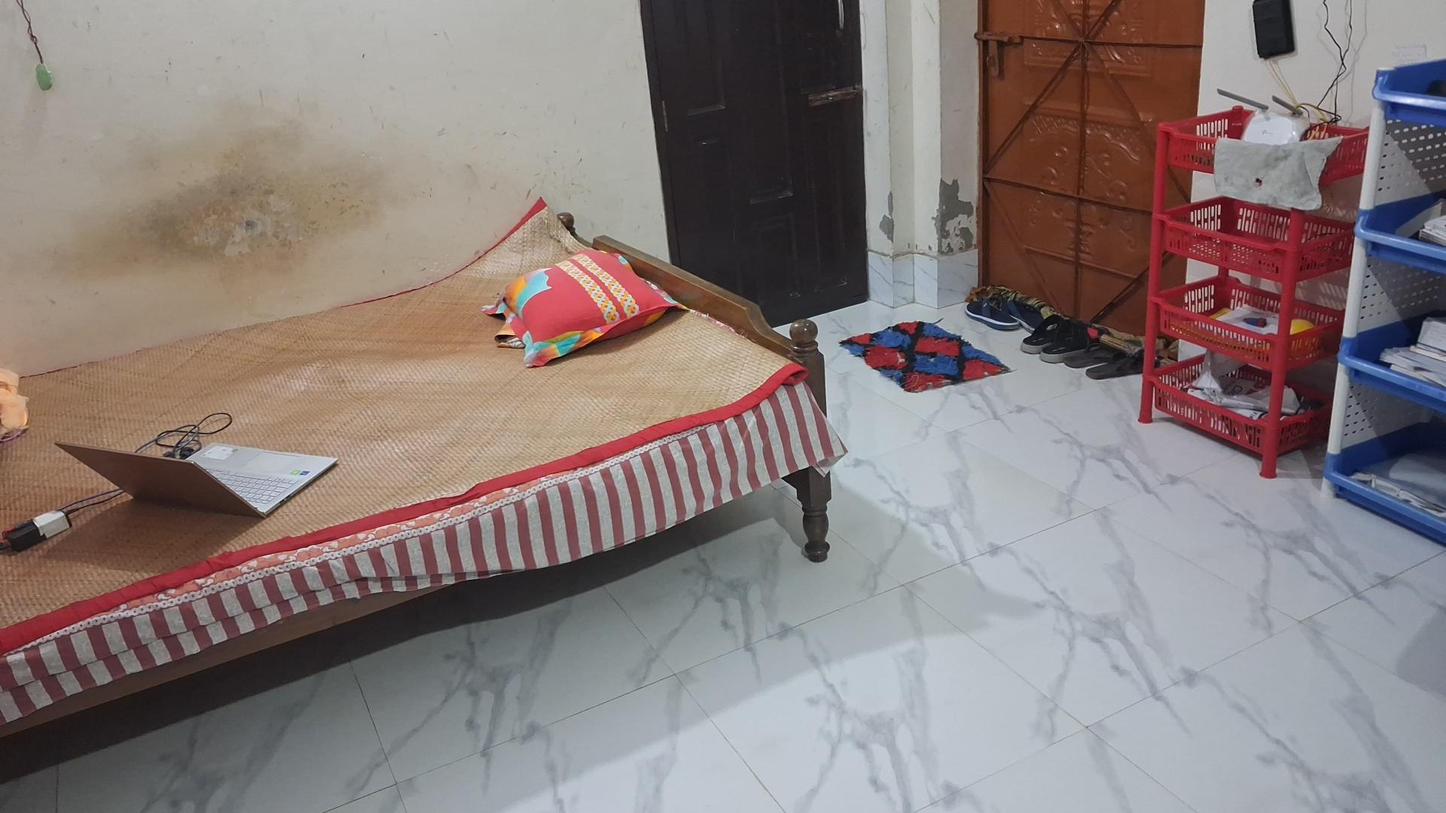Door: (635, 0, 881, 310), (971, 2, 1197, 339)
Floor Mat: (841, 323, 1015, 398)
Footwear: (958, 288, 1057, 337), (1019, 317, 1111, 360), (1065, 346, 1161, 377)
Laptop: (51, 431, 353, 525)
Pillow: (482, 252, 681, 352)
Rack: (1151, 87, 1351, 495), (1330, 51, 1446, 531)
